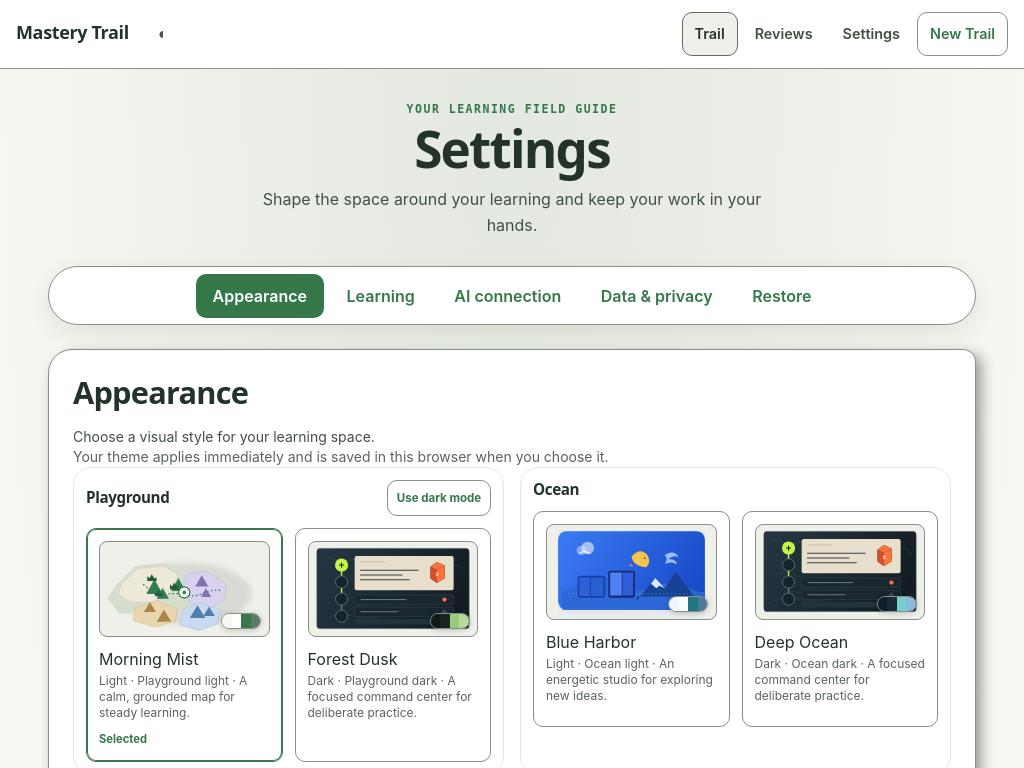
Scenario: SettingsPage privacy and backup controls › shows error when export fails
This screenshot has width=1024, height=768.
What coordinates should you click on to do the following:
click the button "Data & privacy"
I would click on:
 (657, 296)
Its box is [584, 274, 730, 318].
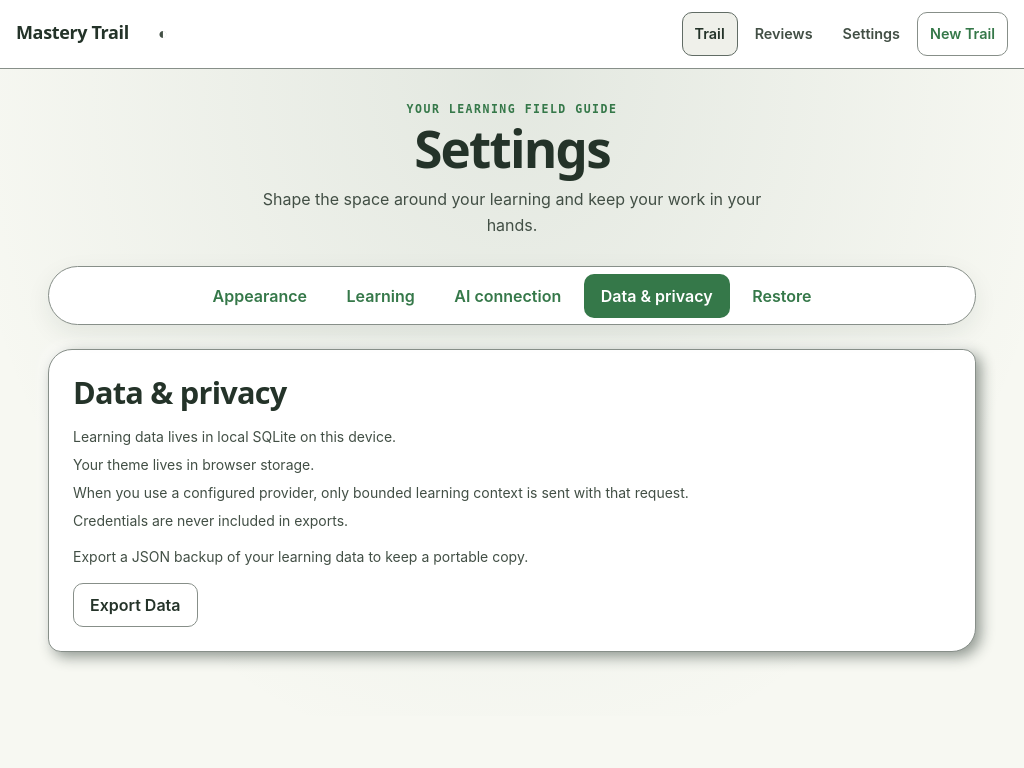
Expected: the button "Export Data" is shown
What coordinates should you click on to do the following:
click the button "Export Data"
I would click on:
 (135, 605)
Its box is [73, 583, 198, 627].
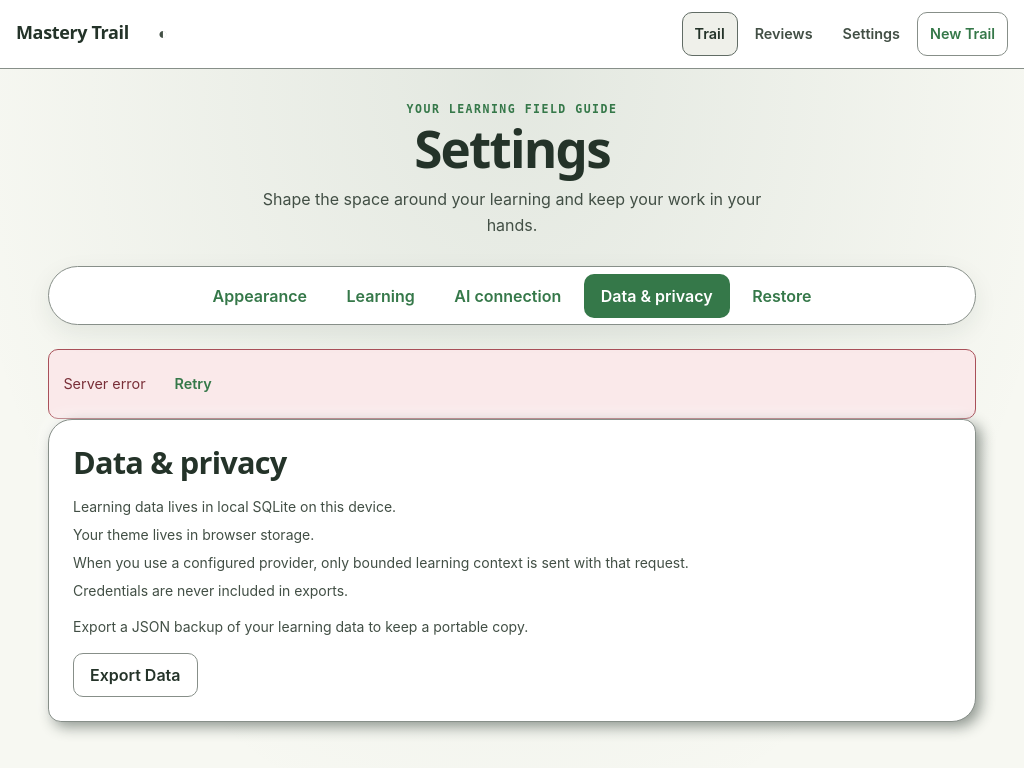
Expected: the message shows "Server error", [63, 375, 146, 392]
